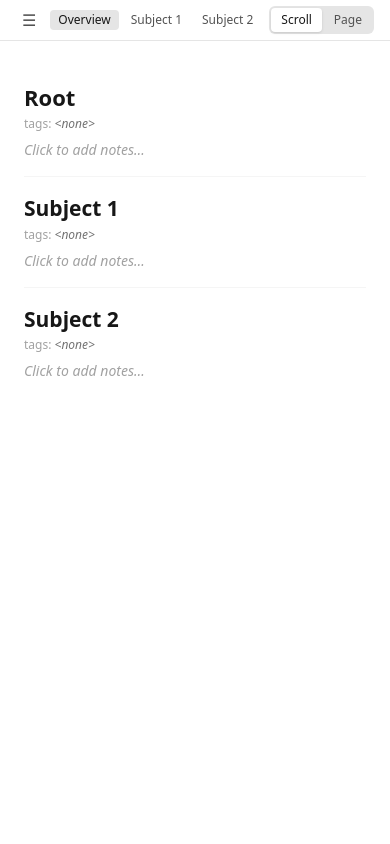
Test: Notelets container › mobile ToC drawer › opens a drawer with the tree; selecting a row navigates and closes it
The width and height of the screenshot is (390, 844).
Click the button named "Show table of contents" at (29, 20), box [16, 6, 42, 34]
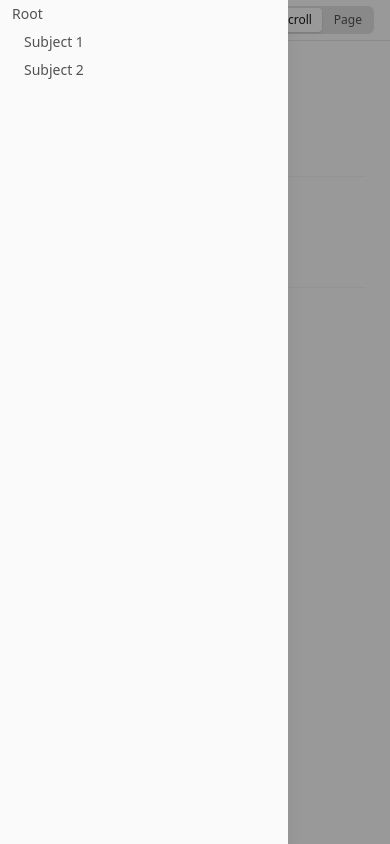
Click the list item "Subject 2" at (54, 70), box [24, 60, 84, 79]
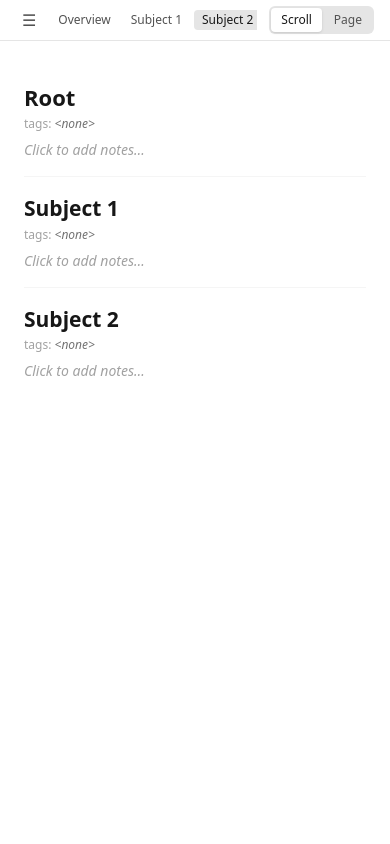
Result: the dialog is gone
